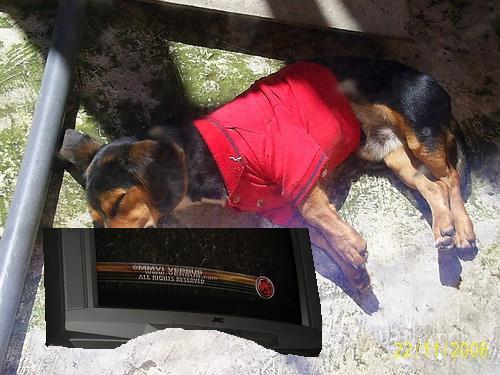tampered: (44, 229, 322, 357)
